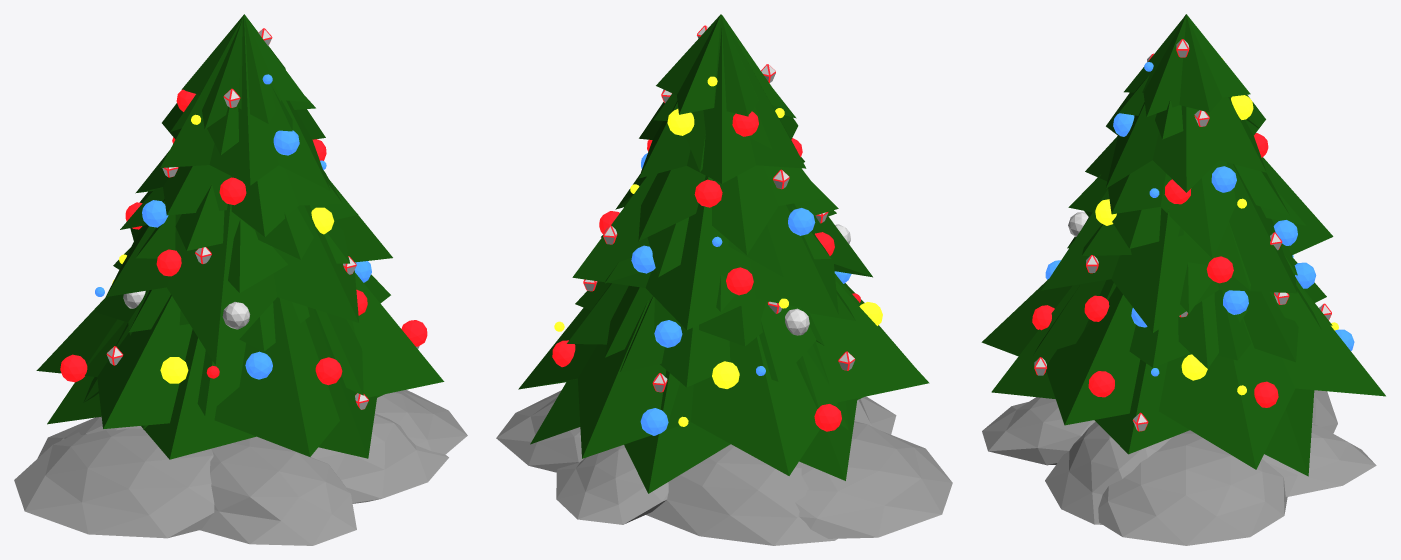
File: uploads_files_3409994_ChristmasTree_2021_v1.fbx
The picture shows the model from 3 angles, left to right: view 1: azimuth 30°, elevation 25°; view 2: azimuth 150°, elevation 25°; view 3: azimuth 270°, elevation 25°; orthographic projection. The views are drawn at different scales.
Visible parts, largest first — view 1: Tree_B, Icosphere, Icosphere.026, Icosphere.018, Icosphere.041, Icosphere.011, Icosphere.001, Icosphere.019, Icosphere.012, Icosphere.028, Icosphere.002; view 2: Tree_B, Icosphere, Icosphere.021, Icosphere.027, Icosphere.003, Icosphere.013, Icosphere.011, Icosphere.022, Icosphere.012, Icosphere.023; view 3: Tree_B, Icosphere, Icosphere.015, Icosphere.008, Icosphere.014, Icosphere.005, Icosphere.006, Icosphere.007.
Part boxes in pixels (x1,y1,x2,y2): Tree_B: (36,14,444,459); Icosphere: (14,389,467,545); Icosphere.026: (160,357,188,383); Icosphere.018: (245,351,272,379); Icosphere.041: (222,302,250,329); Icosphere.011: (60,354,87,382); Icosphere.001: (219,177,246,205); Icosphere.019: (315,357,342,385); Icosphere.012: (142,200,168,227); Icosphere.028: (273,130,299,155); Icosphere.002: (156,249,181,276); Tree_B: (518,14,929,493); Icosphere: (496,390,952,545); Icosphere.021: (654,320,682,347); Icosphere.027: (712,361,739,388); Icosphere.003: (694,179,722,207); Icosphere.013: (726,267,753,295); Icosphere.011: (814,404,841,431); Icosphere.022: (640,408,668,435); Icosphere.012: (788,208,815,235); Icosphere.023: (667,109,694,135); Tree_B: (981,14,1385,476); Icosphere: (982,390,1376,545); Icosphere.015: (1206,256,1233,283); Icosphere.008: (1088,371,1114,397); Icosphere.014: (1211,166,1236,192); Icosphere.005: (1223,290,1248,314); Icosphere.006: (1254,381,1278,407); Icosphere.007: (1084,295,1109,321).
Bounding box in the file's own units: 515 × 542 × 437.
